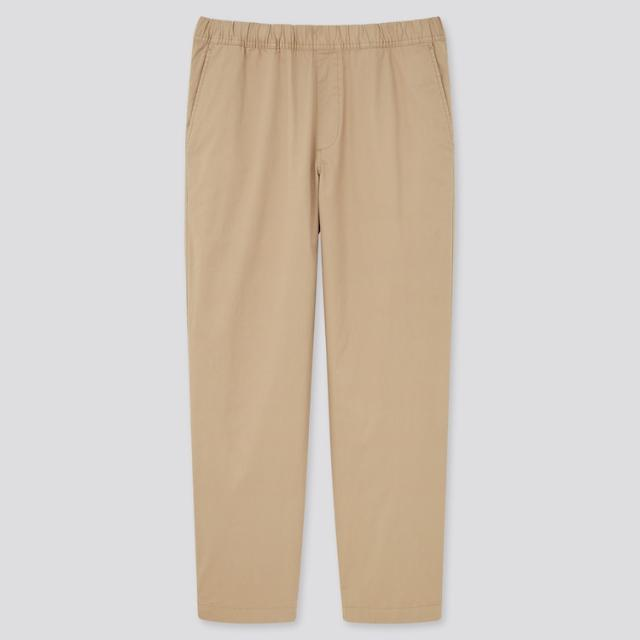long-pants: (184, 17, 456, 628)
